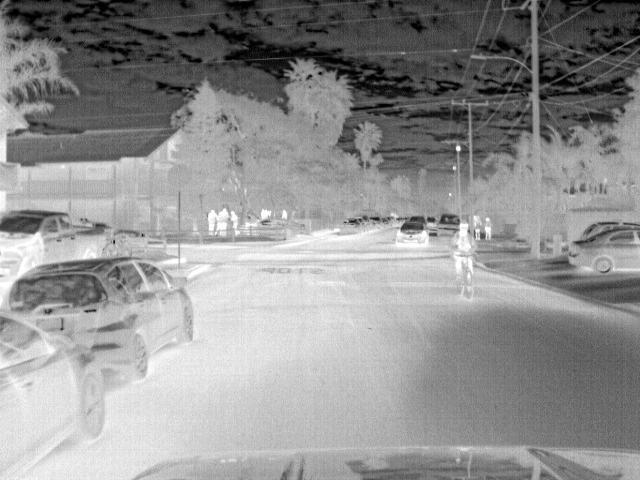car: (1, 254, 197, 386), (2, 312, 113, 479), (1, 210, 107, 288), (565, 227, 640, 275), (577, 218, 640, 243), (394, 218, 431, 248), (257, 218, 307, 237), (437, 213, 460, 234), (340, 218, 363, 236), (354, 216, 371, 230), (367, 214, 383, 228)
person: (452, 222, 475, 280), (215, 206, 231, 232), (480, 215, 494, 240), (230, 206, 243, 231), (207, 207, 219, 232), (278, 207, 290, 221)
